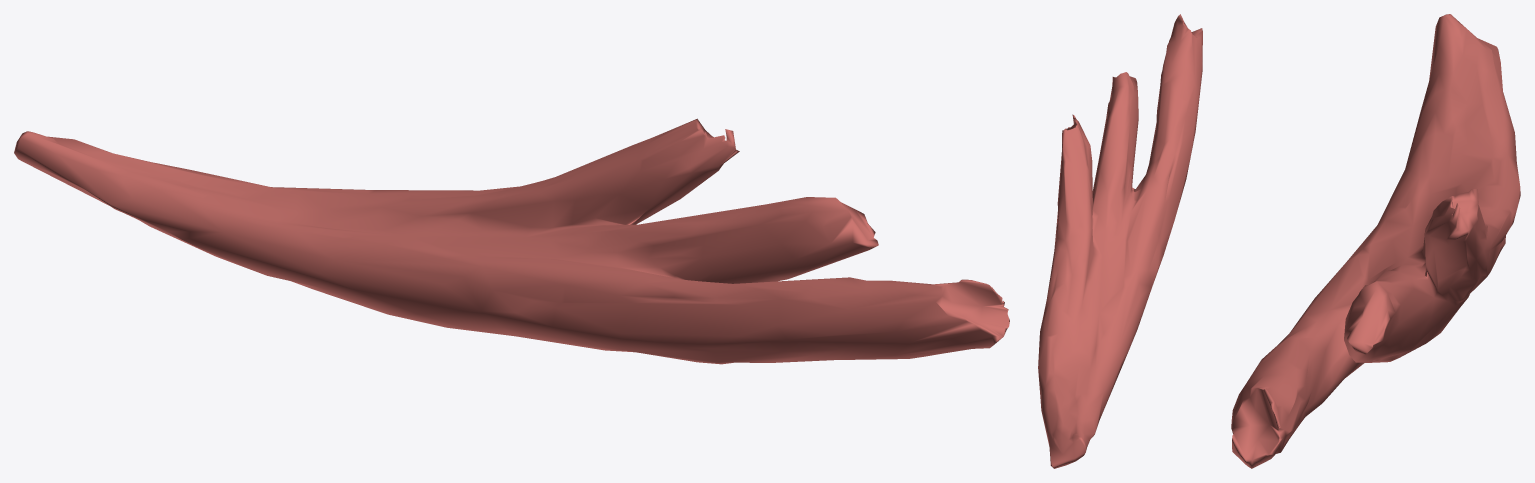
3 views of the same model, side by side, from view 1: azimuth 30°, elevation 25°; view 2: azimuth 150°, elevation 25°; view 3: azimuth 330°, elevation 25° (orthographic). The views are drawn at different scales.
Visible parts, largest first — view 1: 右侧前斜角肌; view 2: 右侧前斜角肌; view 3: 右侧前斜角肌.
Part boxes in pixels (x1,y1,x2,y2): 右侧前斜角肌: (14, 118, 1009, 364); 右侧前斜角肌: (1038, 14, 1202, 468); 右侧前斜角肌: (1231, 14, 1520, 468).
Bounding box in the file's own units: 0.0506 × 0.0277 × 0.122.
